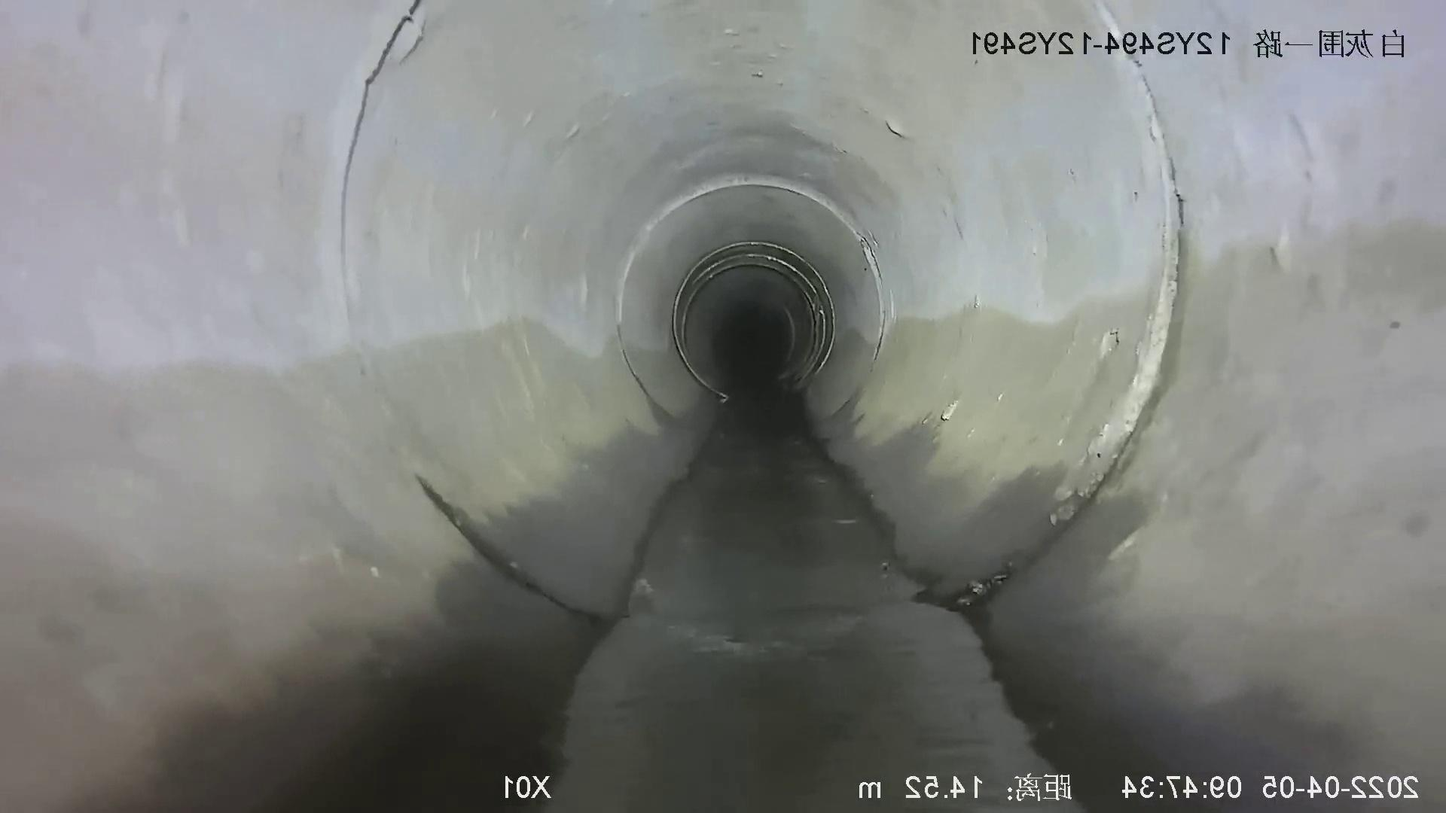CKTJ: (1050, 50, 1184, 530), (641, 173, 888, 358), (1094, 0, 1133, 42)
